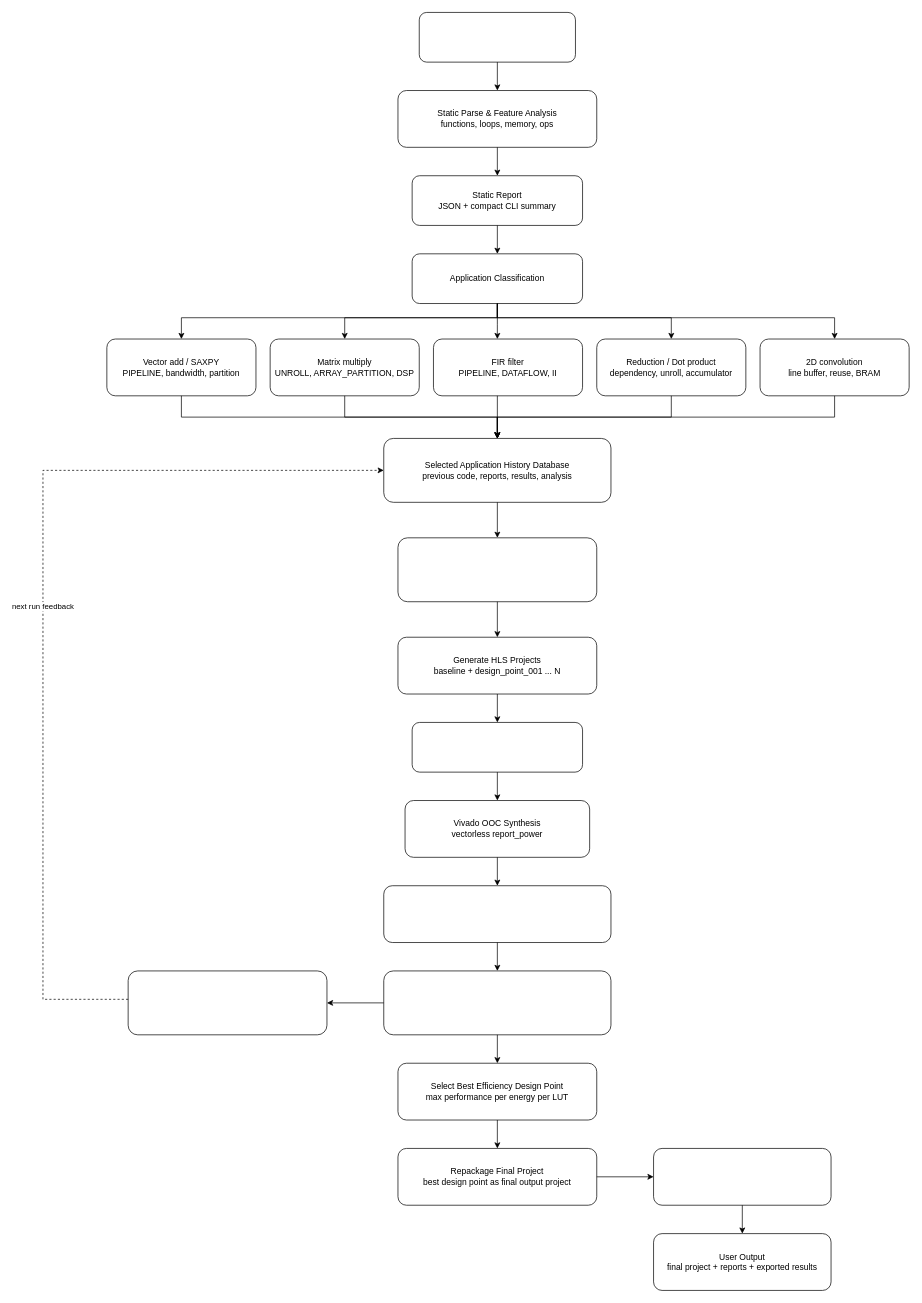
Some shapes in this 922 by 1303 pixel diagram are drawn without their labels. The shapes that lost their labels are listed below. From the top down, each one's box as (x1, y1, x2, y2) in pixels, then its label:
(419, 12, 575, 62): Input C / HLS Project
(397, 537, 597, 602): AI Design Point Generation N pragma combinations for efficiency
(411, 722, 583, 772): Batch Vitis HLS csim + csynth
(383, 885, 611, 943): Parse Experiment Data latency, II, LUT, FF, BRAM, DSP, Power
(127, 970, 327, 1035): Archive Reports & Metadata CSV / JSON / Markdown / database rows
(383, 970, 611, 1035): Compute Unified Metrics runtime, performance, energy, norms efficiency_score
(653, 1148, 831, 1205): Final Vitis Flow synthesis + cosim + package
